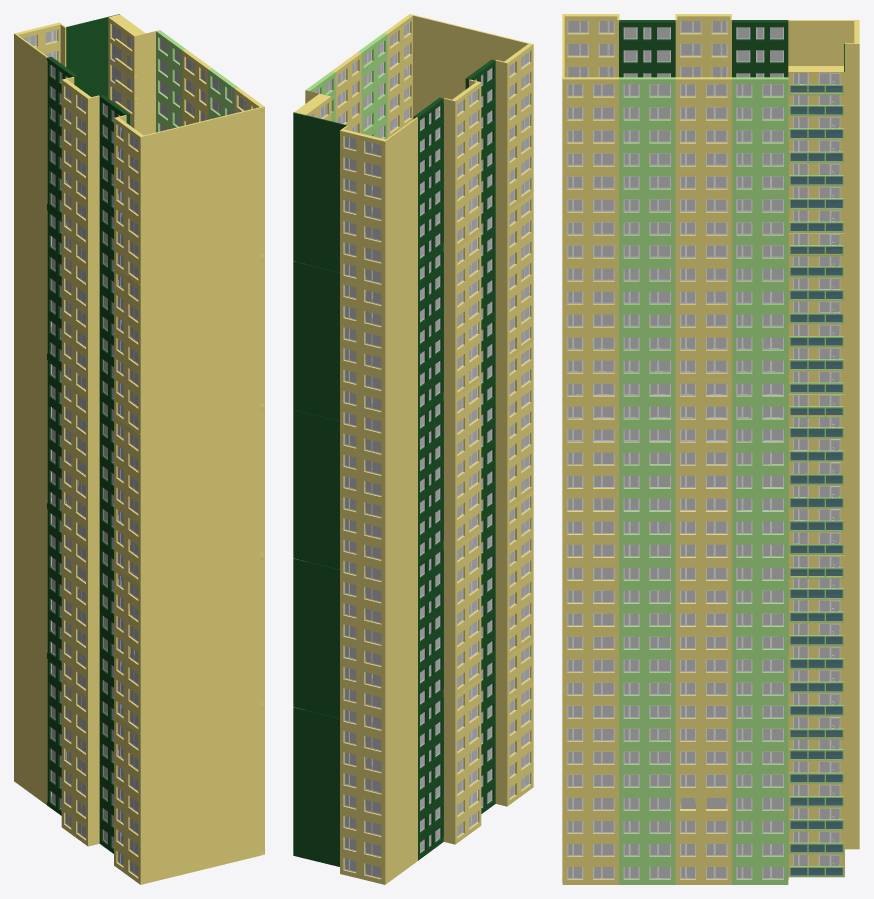
File: panelak.obj
3 views of the same model, side by side, from view 1: azimuth 30°, elevation 25°; view 2: azimuth 150°, elevation 25°; view 3: azimuth 270°, elevation 25° (orthographic). The views are drawn at different scales.
Visible parts, largest first — view 1: panelakveryhighmlem; view 2: panelakveryhighmlem; view 3: panelakveryhighmlem.
Part boxes in pixels (box(x1,y1,x2,y2)): panelakveryhighmlem: box(14, 14, 264, 884); panelakveryhighmlem: box(293, 14, 533, 884); panelakveryhighmlem: box(562, 14, 859, 884).
Bounding box in the file's own units: 0.5624 × 3.23 × 1.08.
